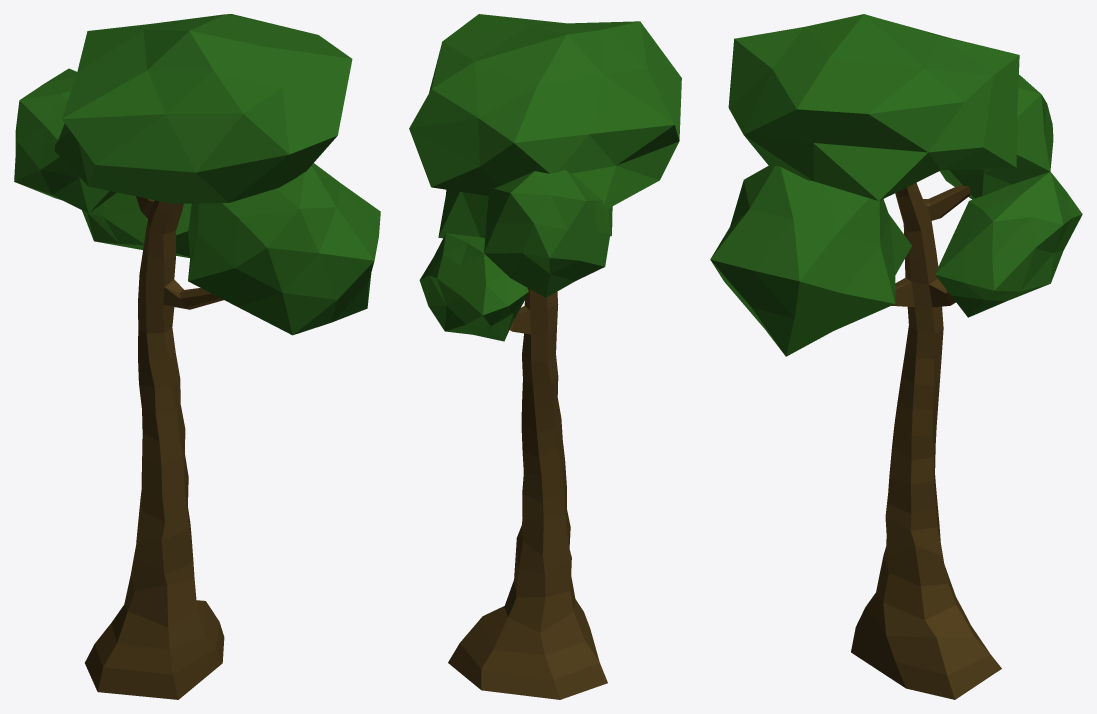
The model's file is bigtree1.fbx.
The picture shows the model from 3 angles, left to right: view 1: azimuth 30°, elevation 25°; view 2: azimuth 150°, elevation 25°; view 3: azimuth 270°, elevation 25°; orthographic projection. The views are drawn at different scales.
Parts seen in each view (by area): view 1: Icosphere; view 2: Icosphere; view 3: Icosphere.
Part boxes in pixels (x1=…): Icosphere: x1=14, y1=14, x2=380, y2=699; Icosphere: x1=409, y1=14, x2=681, y2=699; Icosphere: x1=710, y1=14, x2=1082, y2=699.
Bounding box in the file's own units: 753 × 1701 × 885.
